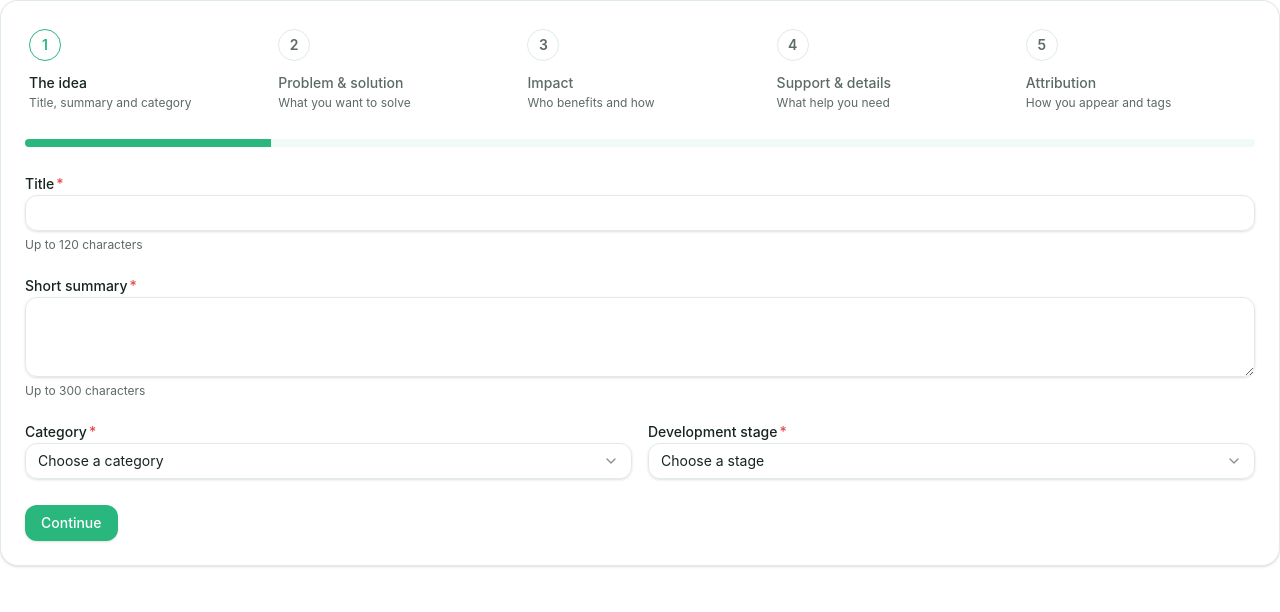
IdeaForm submission wizard › blocks progress and shows inline errors when the step is invalid
Click the button "Continue" at [71, 523], box 25,505 -> 118,541
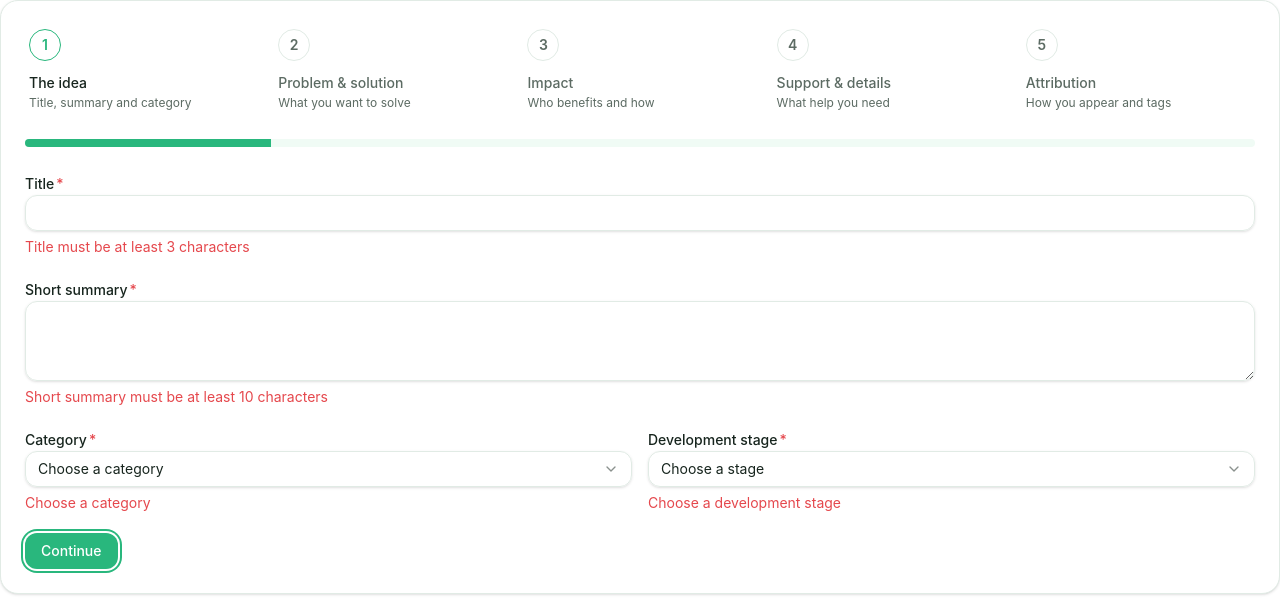
expect the text "Title must be at least 3 characters" is shown: met, box 25,238 -> 250,255
